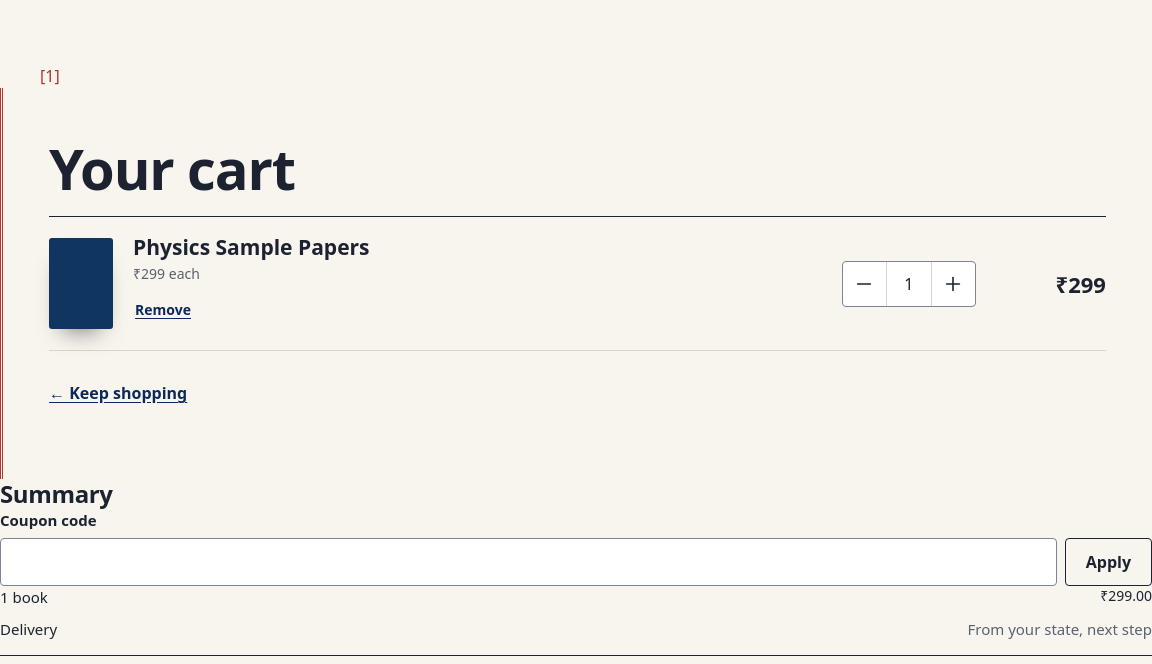
the cart's coupon › says the API's refusal on the field, and applies nothing
Type "nosuchcode" into the field labelled "Coupon code".
click(528, 562); type("nosuchcode")  # box [0, 538, 1057, 586]
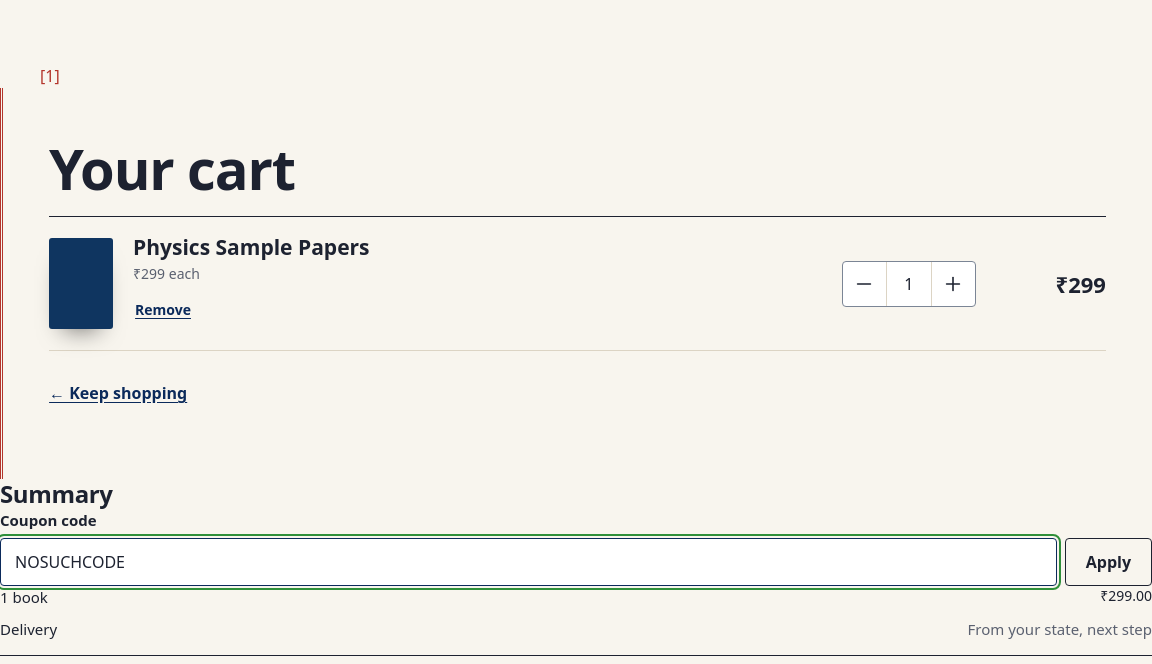
Click the button "Apply".
click(1108, 562)  # box [1065, 538, 1151, 586]
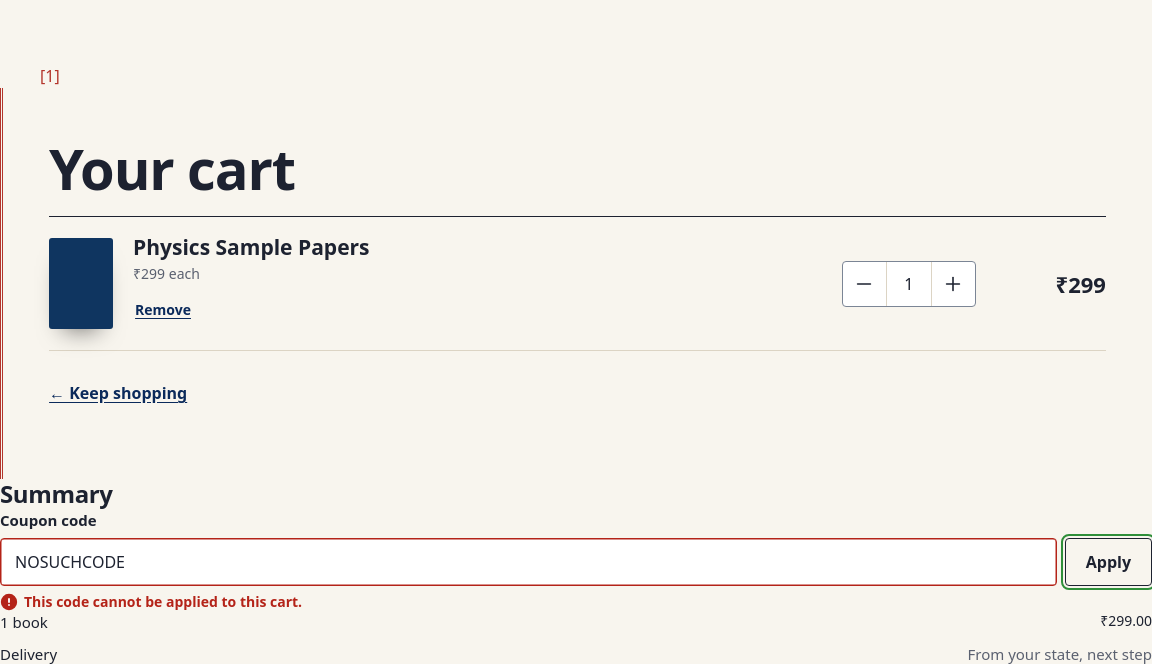
expect the text "This code cannot be applied to this cart." is shown: met, box [24, 592, 302, 611]
